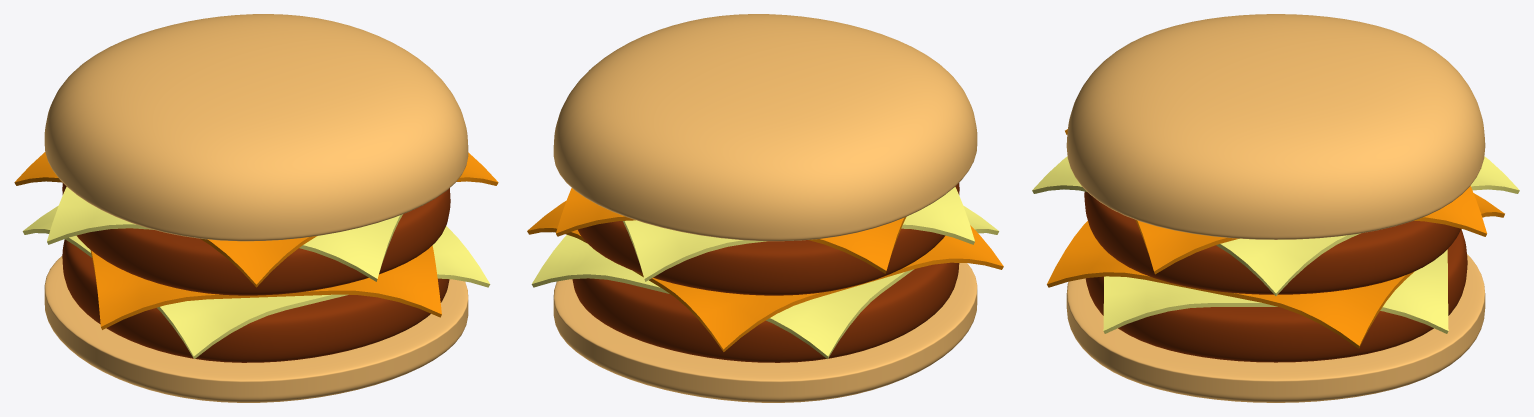
The model's file is hamburger.glb.
3 views of the same model, side by side, from view 1: azimuth 30°, elevation 25°; view 2: azimuth 150°, elevation 25°; view 3: azimuth 270°, elevation 25° (orthographic).
Parts seen in each view (by area): view 1: Cube.002, Cube, Cube.001, Cube.003, Plane.002, Plane, Plane.001, Plane.003; view 2: Cube.002, Cube, Cube.001, Cube.003, Plane, Plane.002, Plane.001, Plane.003; view 3: Cube.002, Cube, Cube.003, Cube.001, Plane.002, Plane, Plane.001, Plane.003.
Part boxes in pixels (box(x1,y1,x2,y2)): Cube.002: box(44, 14, 468, 241); Cube: box(44, 256, 468, 402); Cube.001: box(62, 239, 449, 362); Cube.003: box(62, 183, 450, 295); Plane.002: box(90, 245, 441, 329); Plane: box(22, 205, 490, 358); Plane.001: box(47, 187, 402, 281); Plane.003: box(14, 152, 498, 287); Cube.002: box(553, 14, 977, 241); Cube: box(553, 263, 977, 402); Cube.001: box(572, 262, 959, 362); Cube.003: box(577, 183, 959, 295); Plane: box(531, 205, 999, 358); Plane.002: box(527, 200, 1003, 351); Plane.001: box(623, 187, 974, 281); Plane.003: box(556, 188, 906, 273); Cube.002: box(1066, 14, 1485, 239); Cube: box(1066, 254, 1485, 402); Cube.003: box(1084, 191, 1460, 294); Cube.001: box(1085, 229, 1467, 362); Plane.002: box(1047, 193, 1504, 348); Plane: box(1103, 249, 1448, 333); Plane.001: box(1032, 156, 1519, 295); Plane.003: box(1065, 129, 1487, 274).
Bounding box in the file's own units: 2.14 × 1.28 × 2.14.
